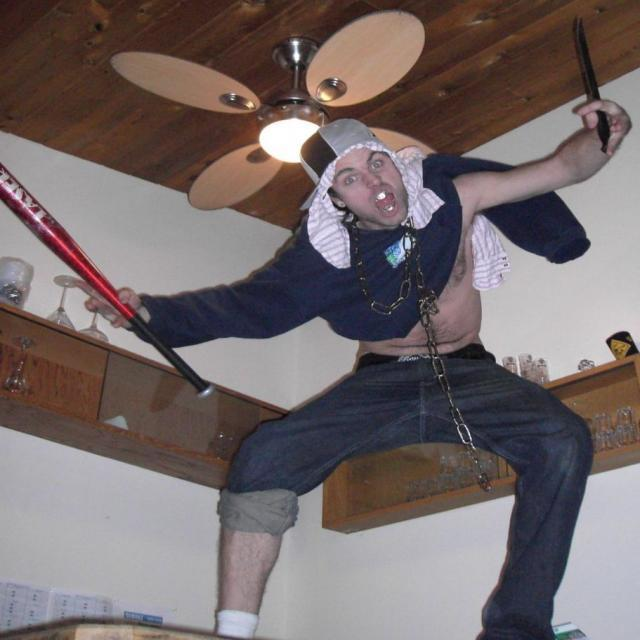bulb_on: (260, 126, 325, 166)
fan_off: (106, 8, 453, 209)
